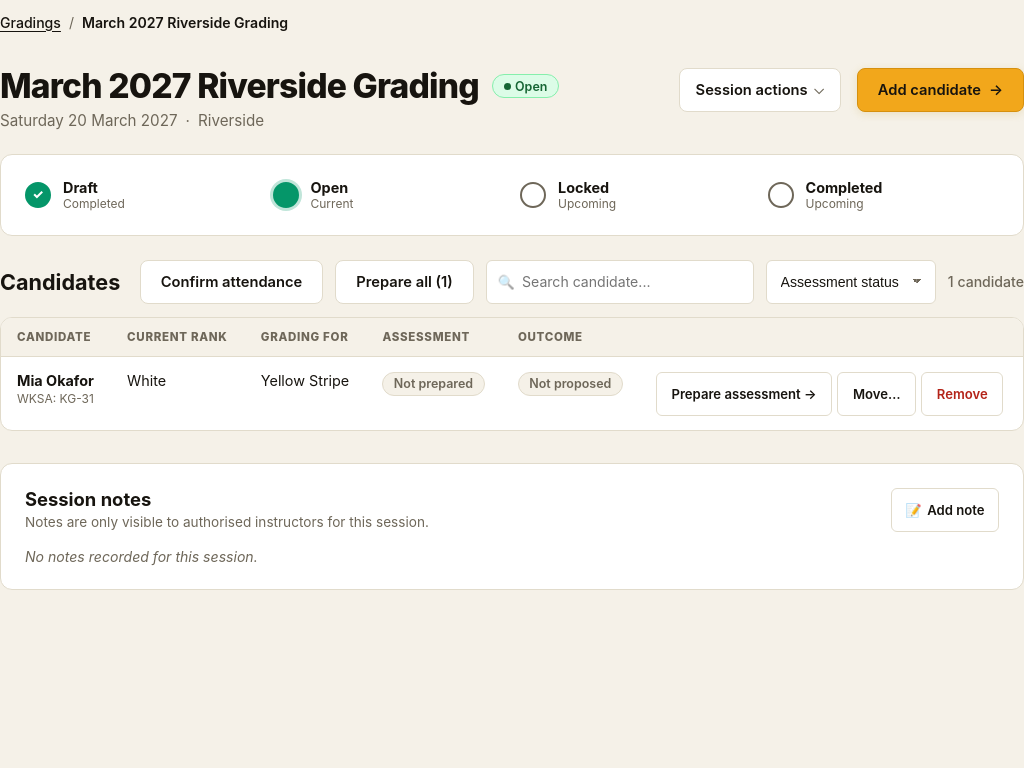
Test: GradingSessionDetailScreen registration actions › moves a registration to another draft or open session
Click the button with aria-label "Move Mia Okafor to another session" at (877, 394), box [838,372,916,416]
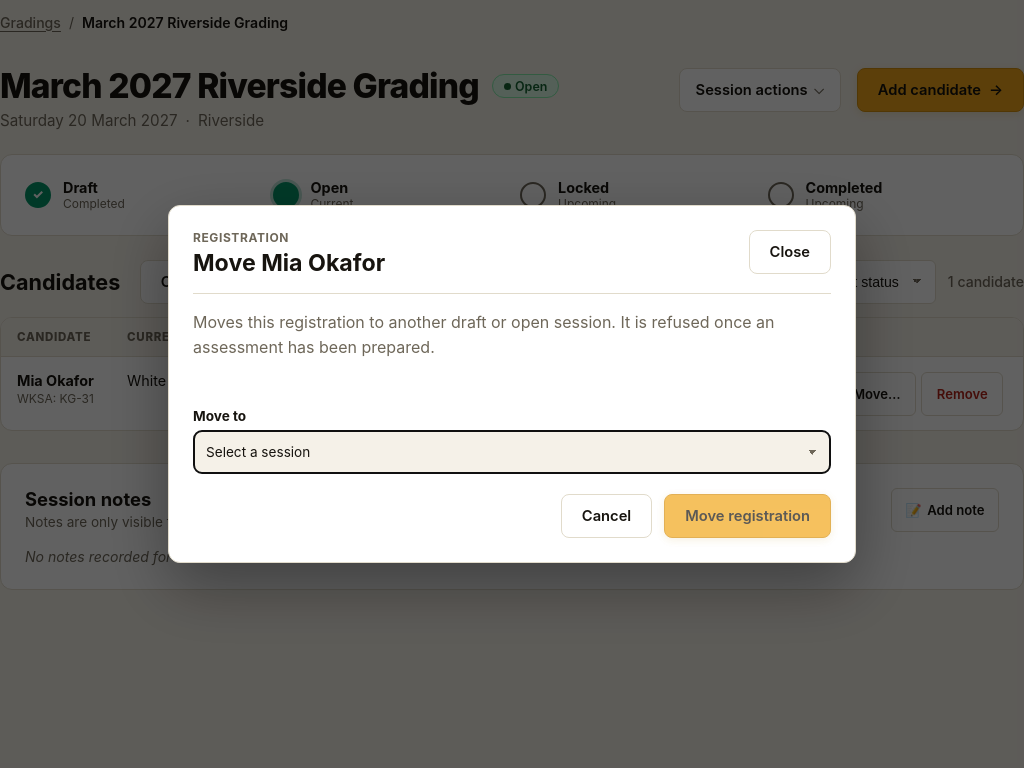
Select "May Grading · Saturday 15 May 2027" in the dropdown labelled "Move to" at (512, 452), box [193,430,831,474]
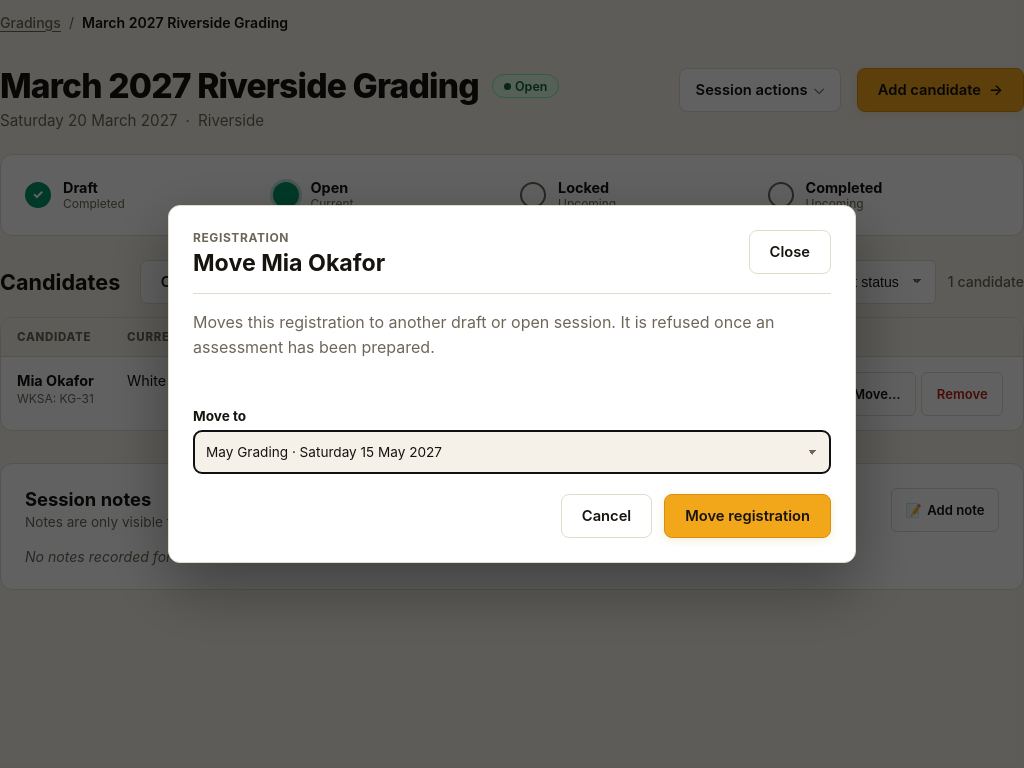
Click the button "Move registration" at (748, 516), box [664,494,831,538]
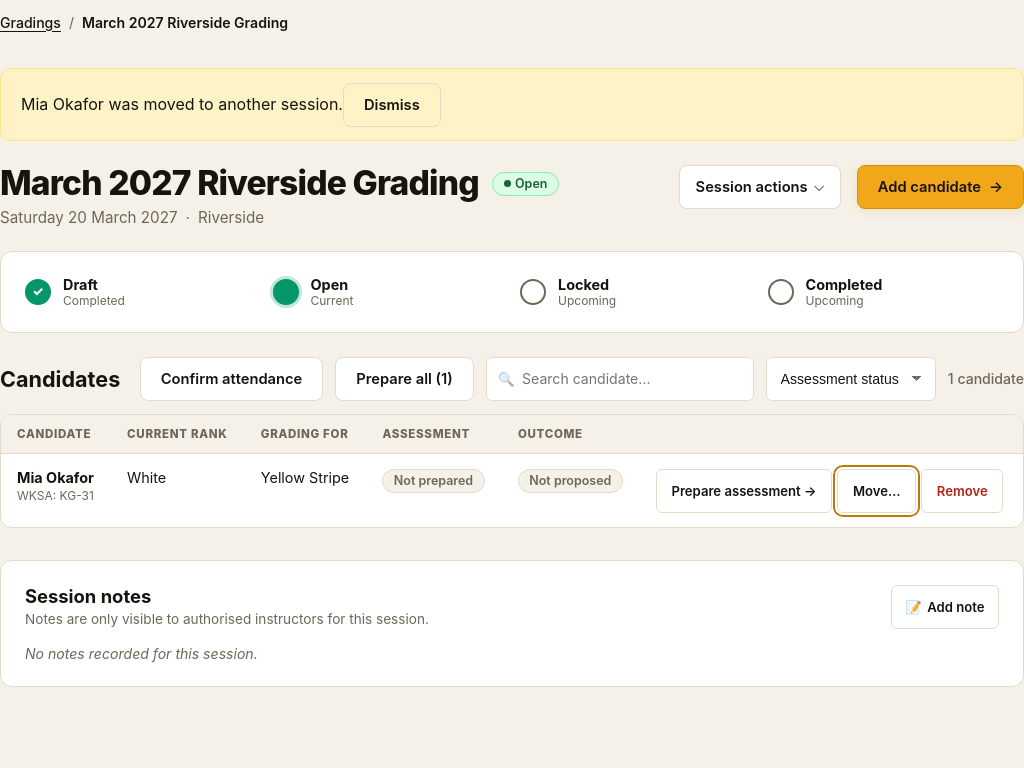
expect the text "Mia Okafor was moved to another session." is shown: met, box [21,94,343,114]
expect the dialog is gone: met
